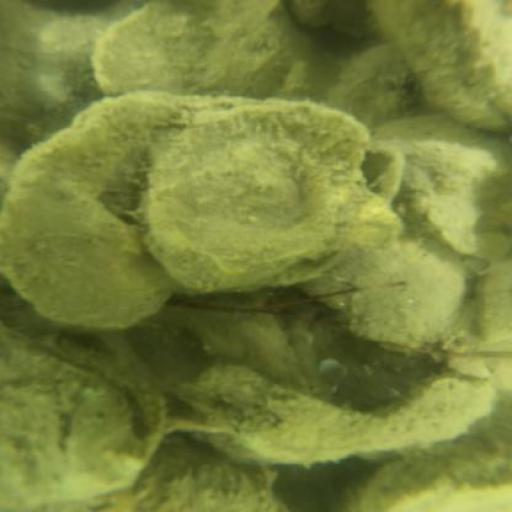Oyster-Closed: (7, 97, 177, 330), (182, 365, 492, 462), (1, 322, 144, 512), (92, 2, 330, 103), (377, 115, 512, 261), (364, 2, 512, 134), (338, 424, 512, 512), (144, 440, 294, 512), (337, 43, 416, 126)
Oyster-Open: (145, 104, 401, 296), (306, 238, 470, 352)
